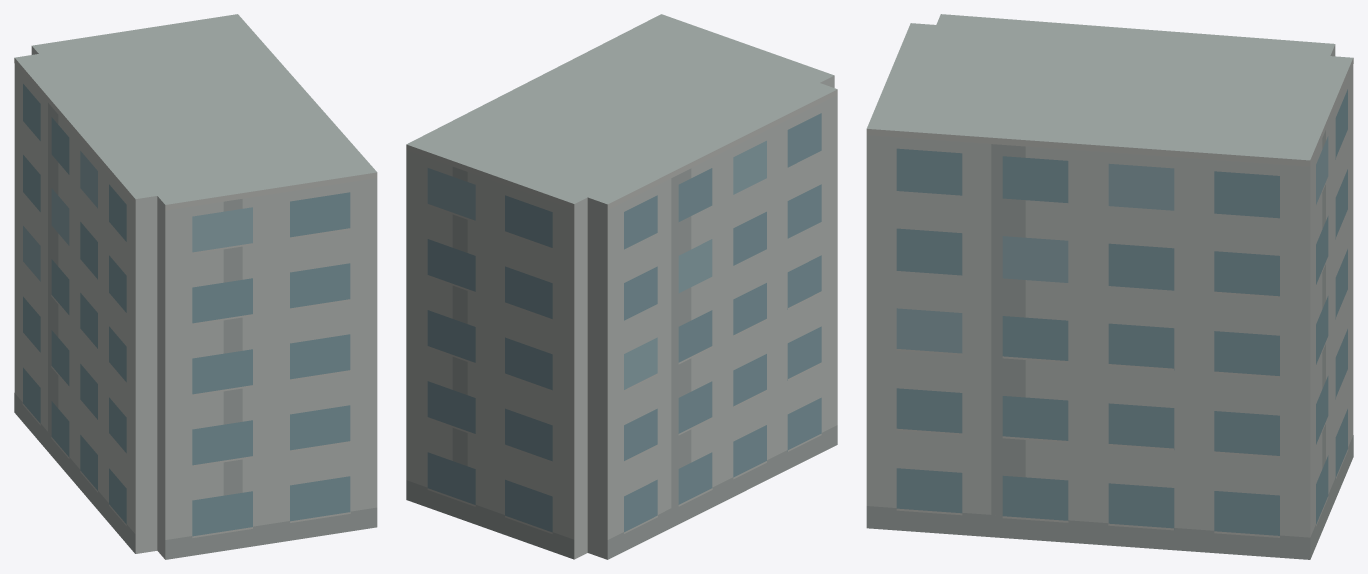
File: survey-upis-32852628.glb
3 renders of one model, left to right at view 1: azimuth 30°, elevation 25°; view 2: azimuth 150°, elevation 25°; view 3: azimuth 270°, elevation 25°, orthographic. The views are drawn at different scales.
Parts seen in each view (by area): view 1: survey-upis-32852628.tmp; view 2: survey-upis-32852628.tmp; view 3: survey-upis-32852628.tmp.
Part boxes in pixels (bbox=[...]): survey-upis-32852628.tmp: bbox=[14, 14, 377, 559]; survey-upis-32852628.tmp: bbox=[406, 14, 837, 559]; survey-upis-32852628.tmp: bbox=[866, 14, 1353, 559].
Bounding box in the file's own units: 12 × 15.25 × 16.85.
